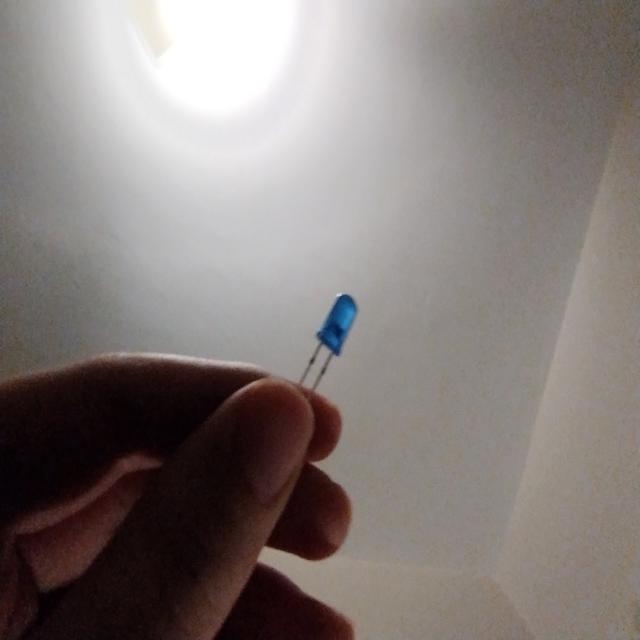blue_led: (296, 274, 364, 405)
